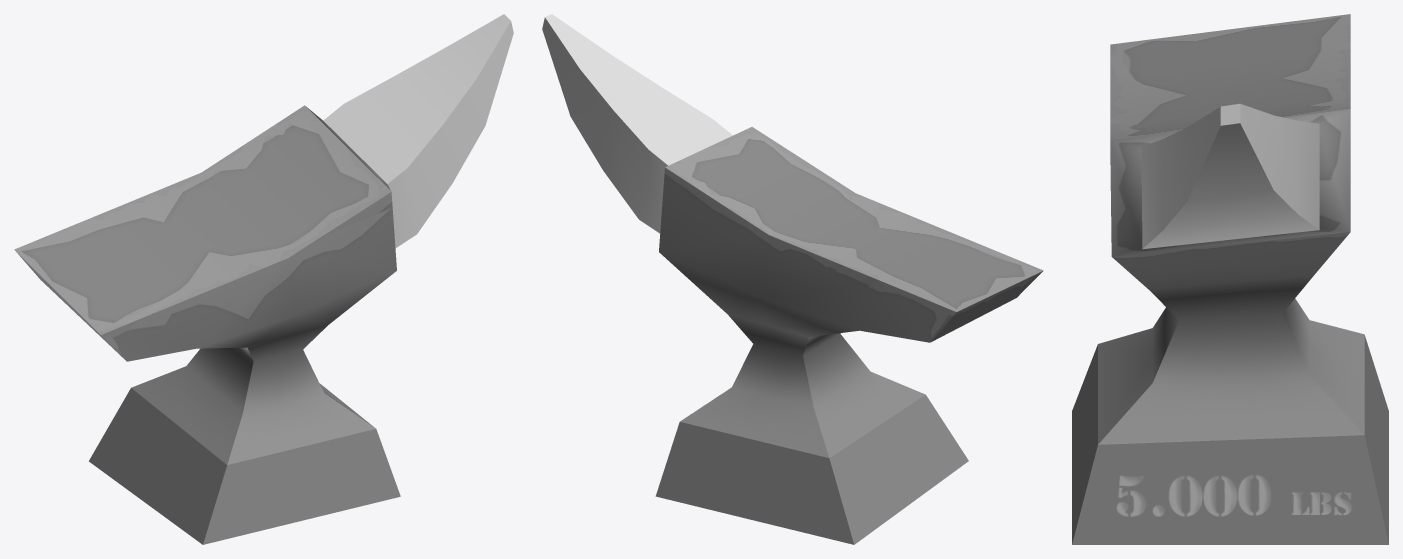
The model's file is Anvil.fbx.
3 renders of one model, left to right at view 1: azimuth 30°, elevation 25°; view 2: azimuth 150°, elevation 25°; view 3: azimuth 270°, elevation 25°, orthographic. The views are drawn at different scales.
Visible parts, largest first — view 1: Anvil; view 2: Anvil; view 3: Anvil.
Boxes of the visible parts, box(x1,y1,x2,y2) form: Anvil: box(14, 14, 513, 544); Anvil: box(542, 14, 1043, 544); Anvil: box(1072, 14, 1388, 544).
Size of the model in its own units: 15.02 by 12.62 by 6.57.
